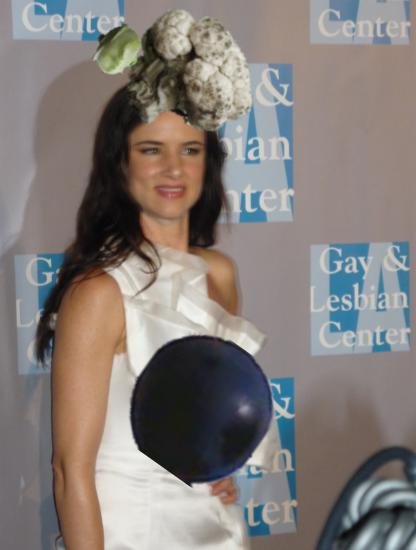Cauliflower: (120, 11, 255, 146)
Grape: (129, 335, 273, 479)
Kohlrabi: (90, 23, 145, 78)
